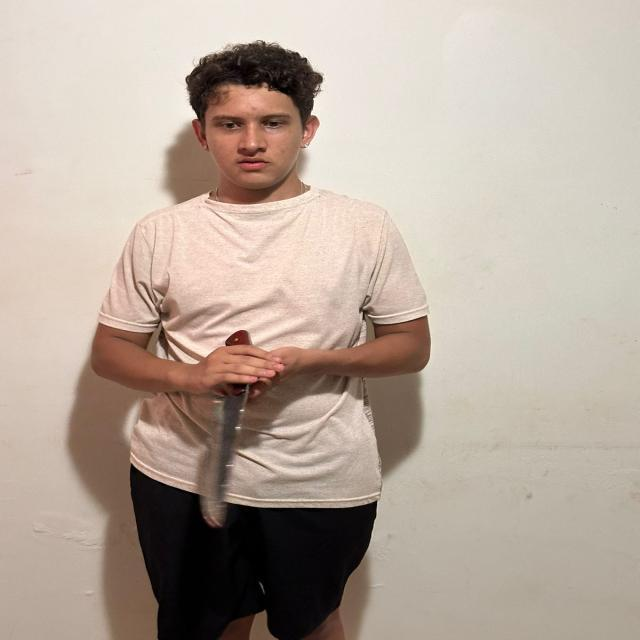knife: (198, 396, 246, 529)
